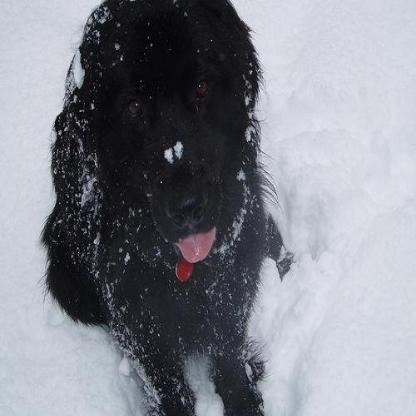Newfoundland: (38, 0, 296, 414)
